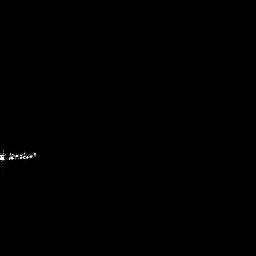ship: (1, 146, 38, 163)
